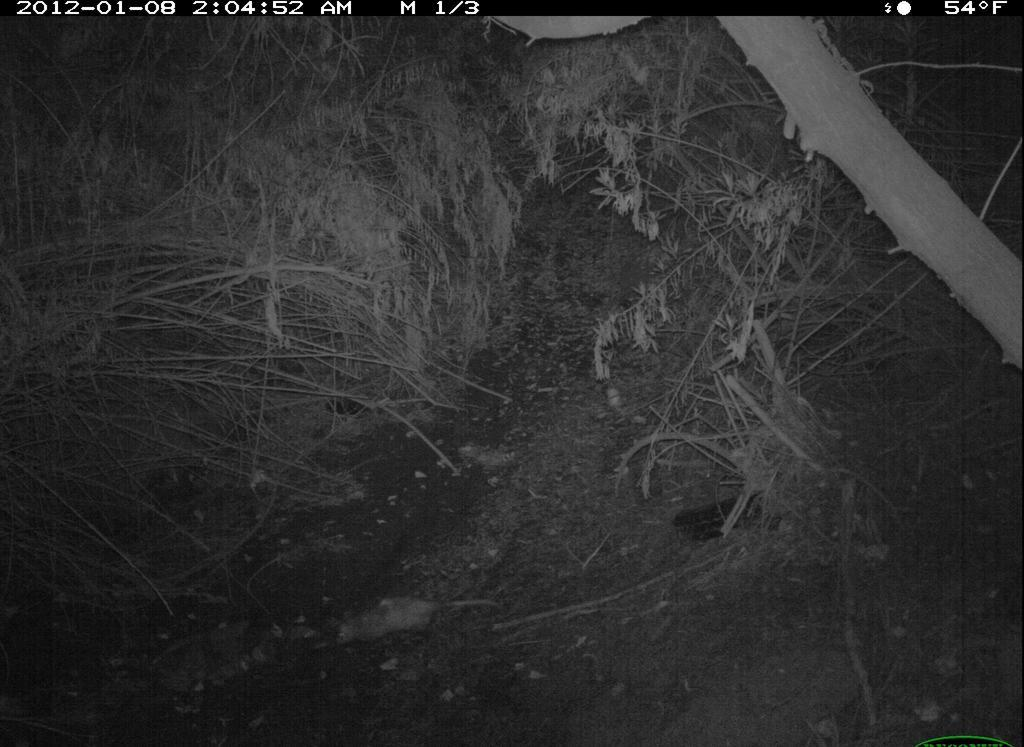opossum: (326, 584, 509, 656)
